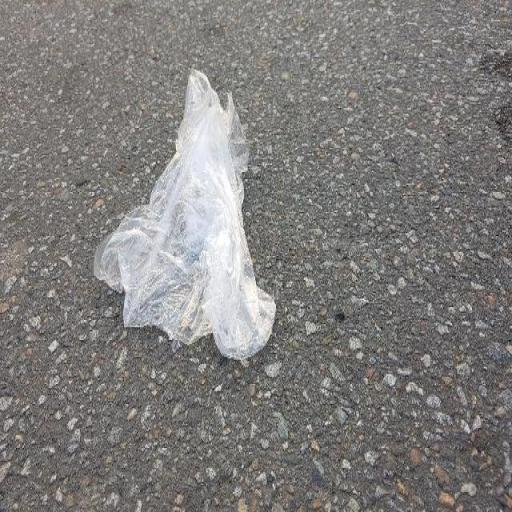plastic-bag: (92, 65, 278, 364)
